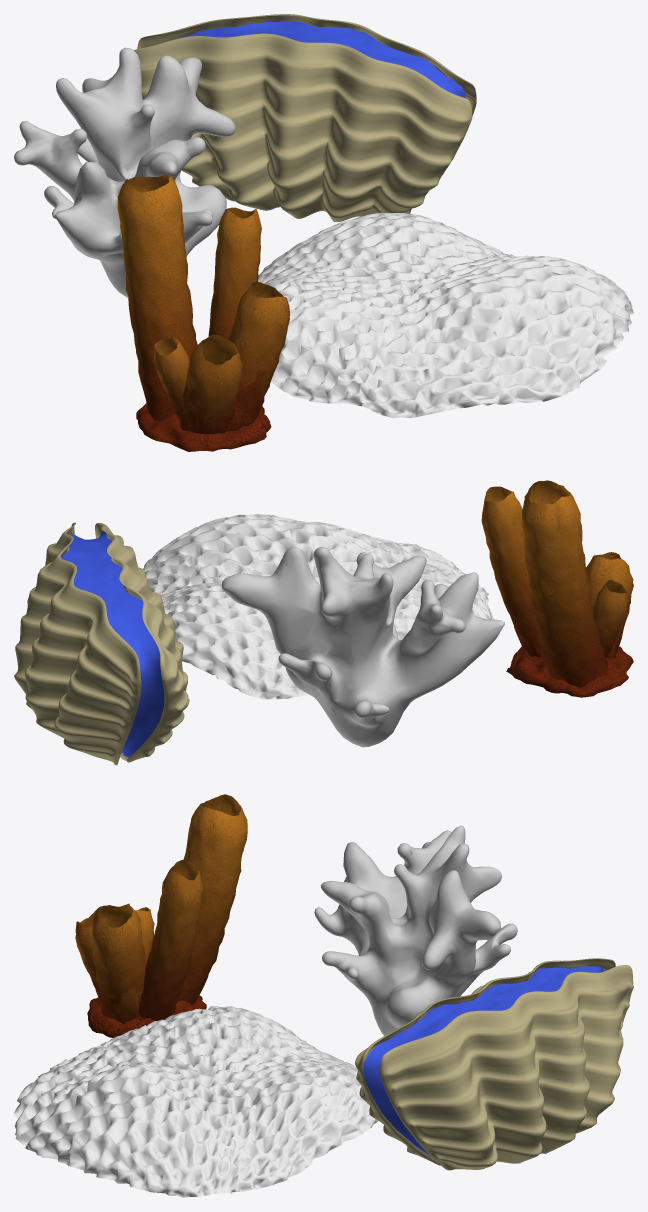
The model's file is coral_pack.fbx.
3 views of the same model, one above another, from view 1: azimuth 30°, elevation 25°; view 2: azimuth 150°, elevation 25°; view 3: azimuth 270°, elevation 25° (orthographic). The views are drawn at different scales.
Parts seen in each view (by area): view 1: coral_2, coral_4, coral_3, coral_1; view 2: coral_1, coral_4, coral_2, coral_3; view 3: coral_2, coral_4, coral_1, coral_3.
Boxes of the visible parts, left/top/right/bottom form: coral_2: left=258, top=212, right=633, bottom=418; coral_4: left=134, top=14, right=476, bottom=221; coral_3: left=117, top=174, right=289, bottom=451; coral_1: left=14, top=47, right=235, bottom=297; coral_1: left=221, top=547, right=504, bottom=747; coral_4: left=14, top=522, right=189, bottom=765; coral_2: left=143, top=514, right=499, bottom=699; coral_3: left=481, top=480, right=633, bottom=697; coral_2: left=14, top=1006, right=378, bottom=1197; coral_4: left=355, top=958, right=633, bottom=1170; coral_1: left=314, top=825, right=517, bottom=1035; coral_3: left=75, top=794, right=247, bottom=1037.
Size of the model in its own units: 316 by 143 by 375.
